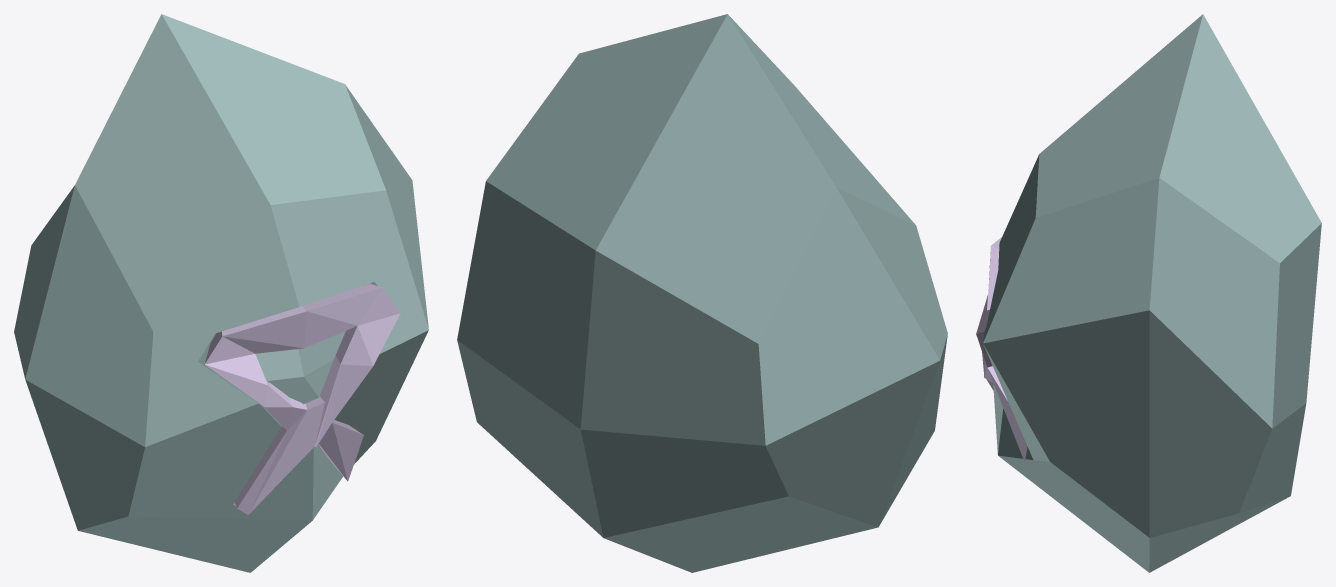
3 renders of one model, left to right at view 1: azimuth 30°, elevation 25°; view 2: azimuth 150°, elevation 25°; view 3: azimuth 270°, elevation 25°, orthographic. The views are drawn at different scales.
Parts seen in each view (by area): view 1: Cube, Cube.001; view 2: Cube; view 3: Cube, Cube.001.
Part boxes in pixels (x1,y1,x2,y2): Cube: (14,14,428,572); Cube.001: (204,283,400,514); Cube: (457,14,947,572); Cube: (983,14,1321,572); Cube.001: (976,237,1027,462).
Bounding box in the file's own units: 229 × 310 × 183.
